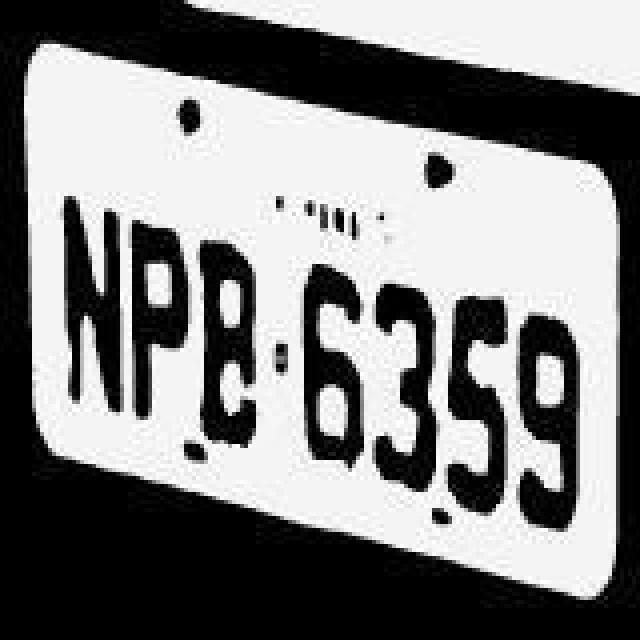3: (368, 282, 448, 502)
5: (442, 286, 518, 522)
6: (290, 254, 374, 482)
9: (514, 308, 590, 540)
B: (194, 230, 270, 450)
N: (52, 190, 124, 418)
P: (128, 220, 192, 420)
